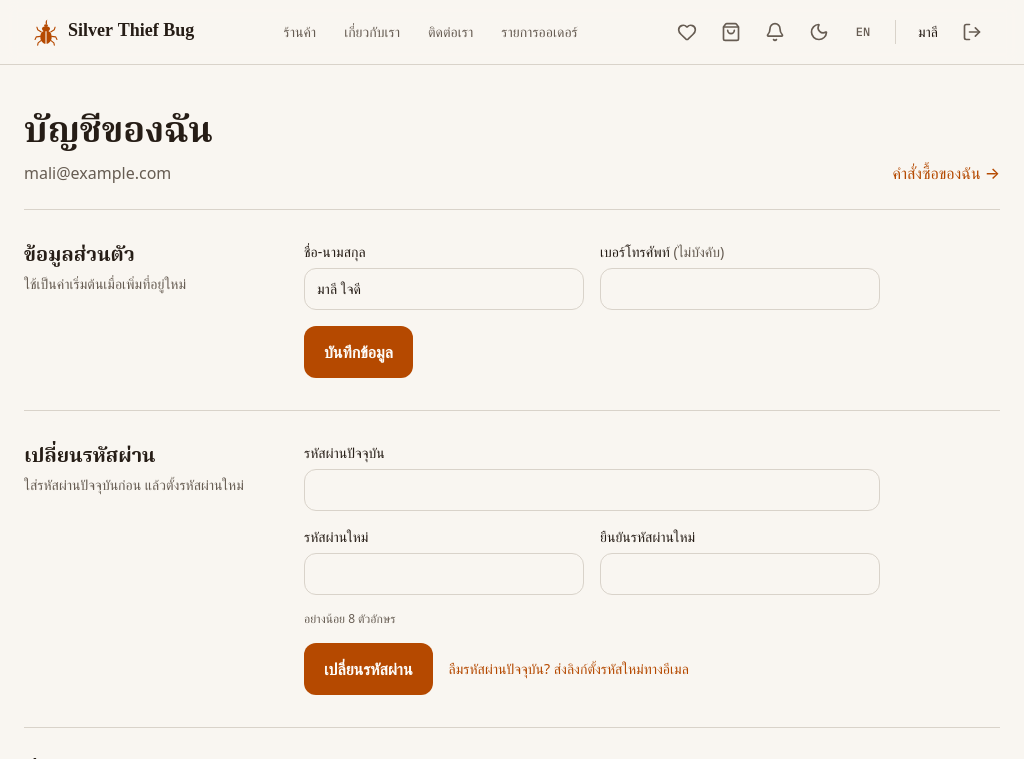
Scenario: a wrong current password changes nothing and says so
Type "guess" into the password field labelled "รหัสผ่านปัจจุบัน".
click(592, 490); type("guess")  # box [304,469,880,511]
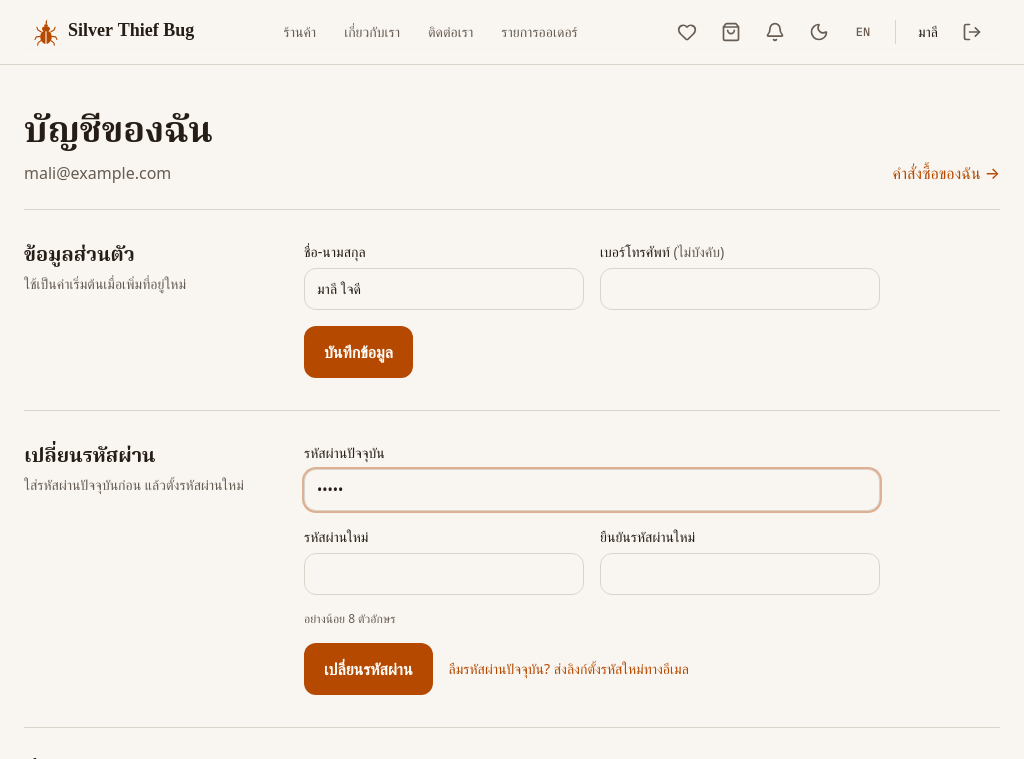
Type "new-secret-1" into the password field labelled "รหัสผ่านใหม่".
click(444, 574); type("new-secret-1")  # box [304,553,584,595]
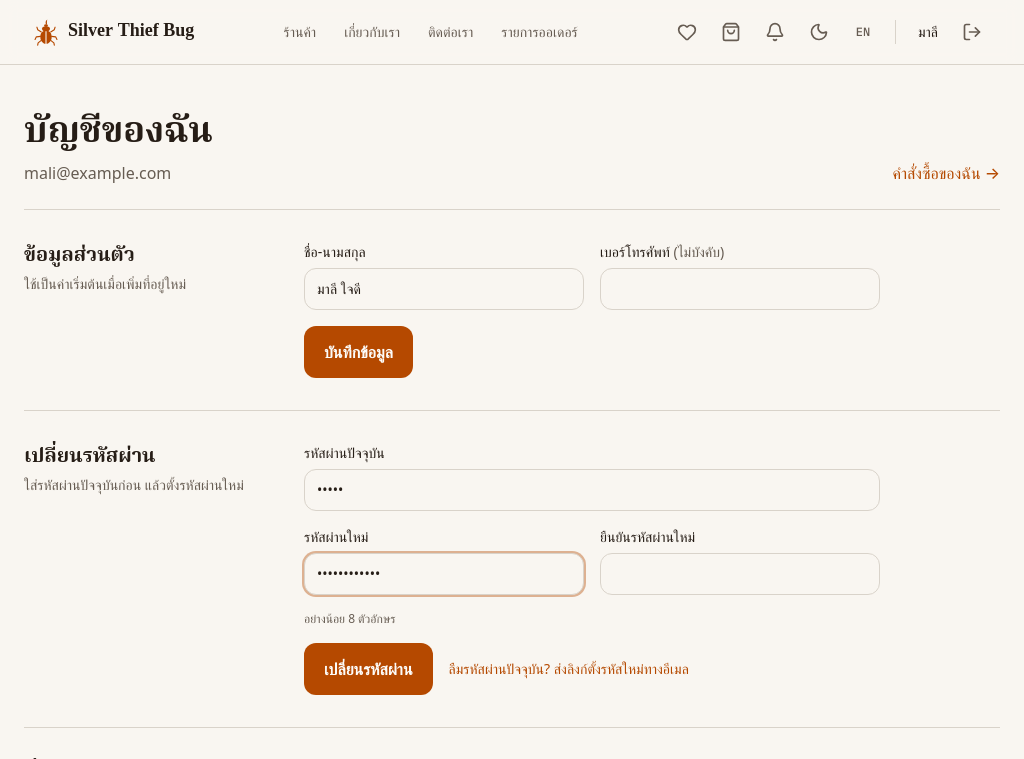
Type "new-secret-1" into the password field labelled "ยืนยันรหัสผ่านใหม่".
click(740, 574); type("new-secret-1")  # box [600,553,880,595]
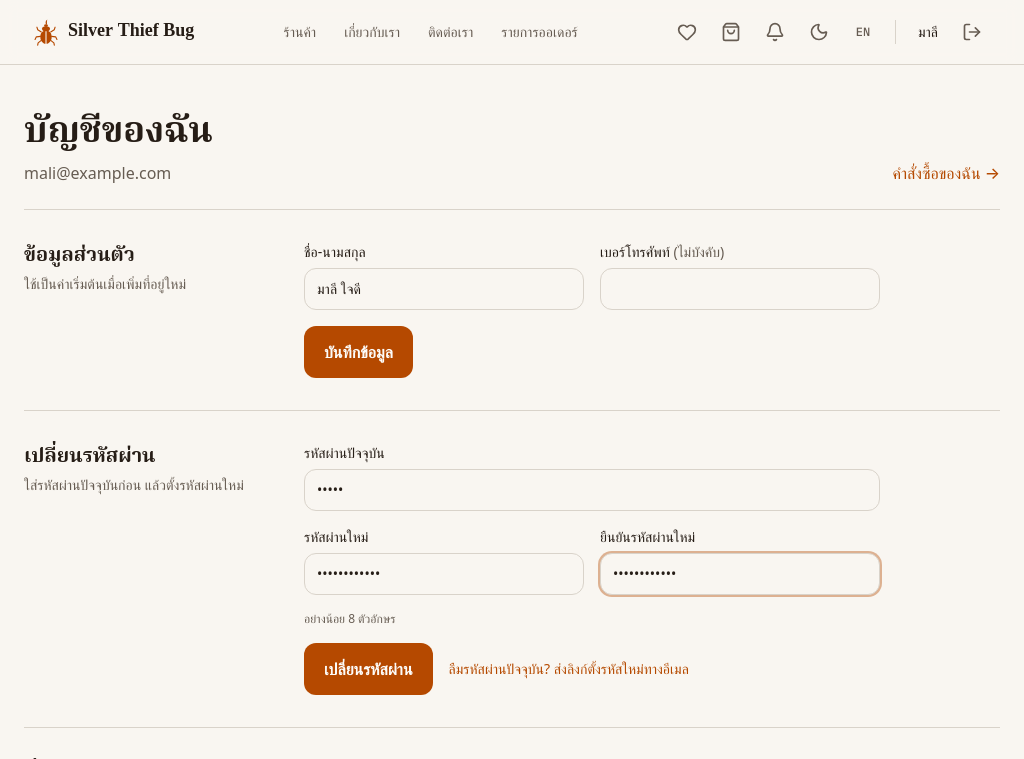
Click the button "เปลี่ยนรหัสผ่าน".
click(368, 669)  # box [304,643,432,695]
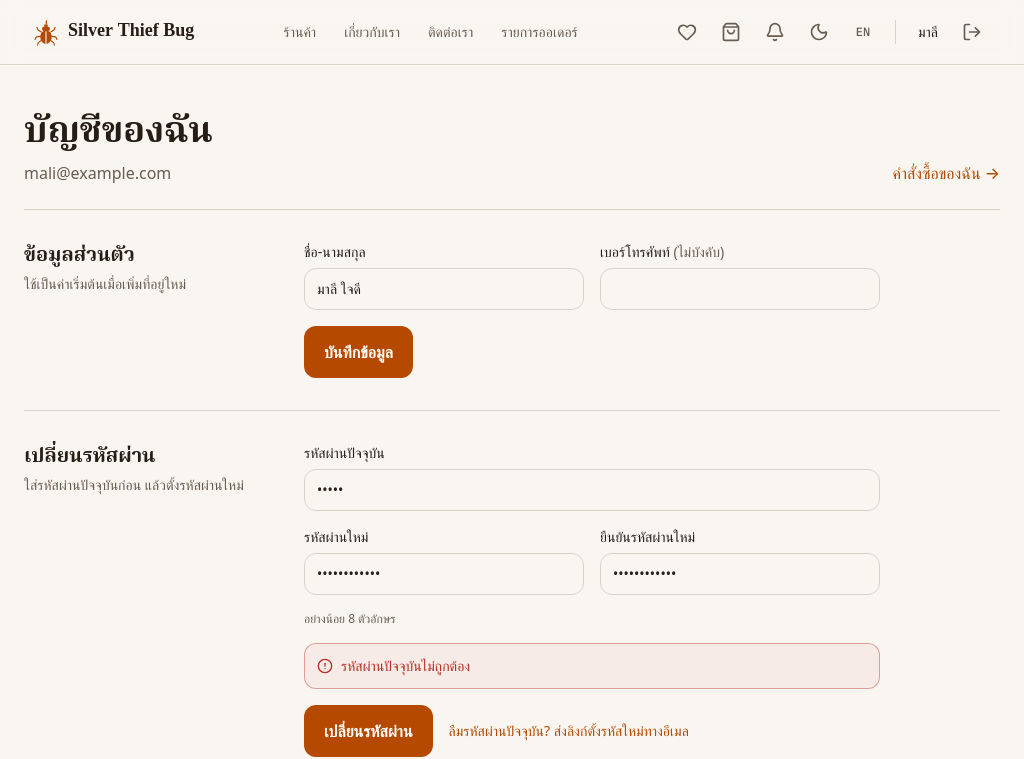
Expected: the text "รหัสผ่านปัจจุบันไม่ถูกต้อง" is shown, [341,656,470,676]
